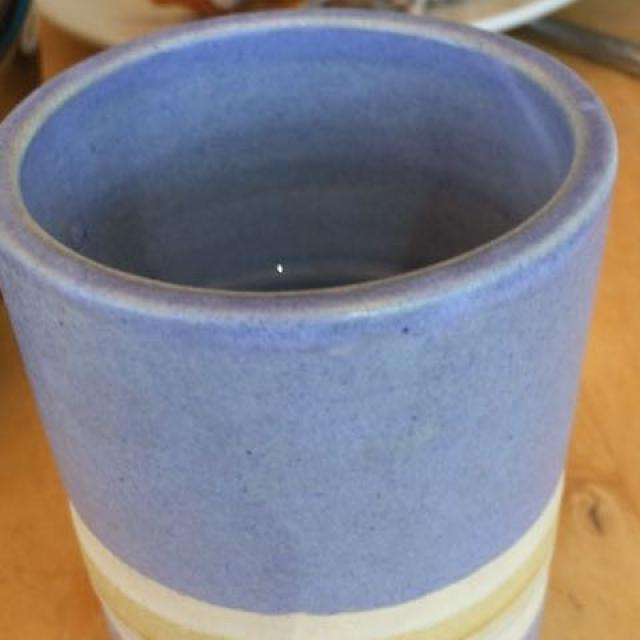water: (58, 149, 526, 309)
